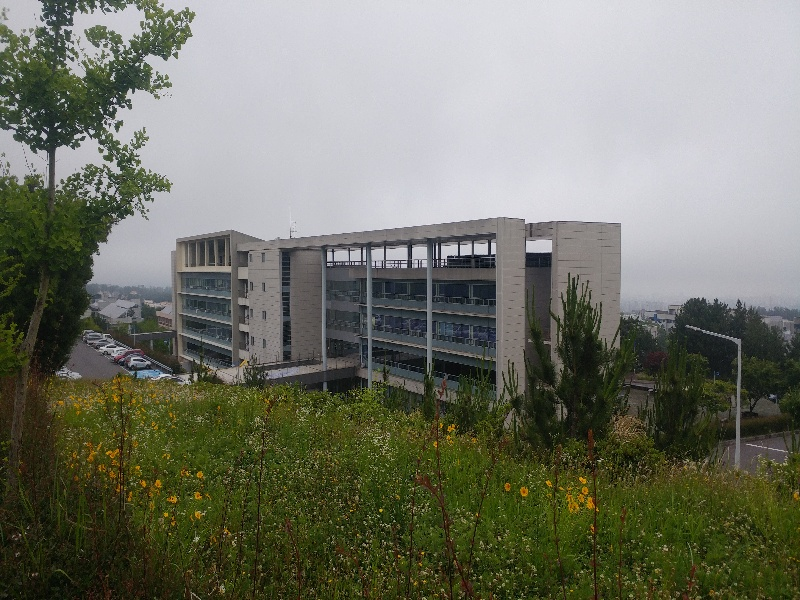Engineering College Building 4: (166, 215, 621, 364), (271, 229, 615, 383)
